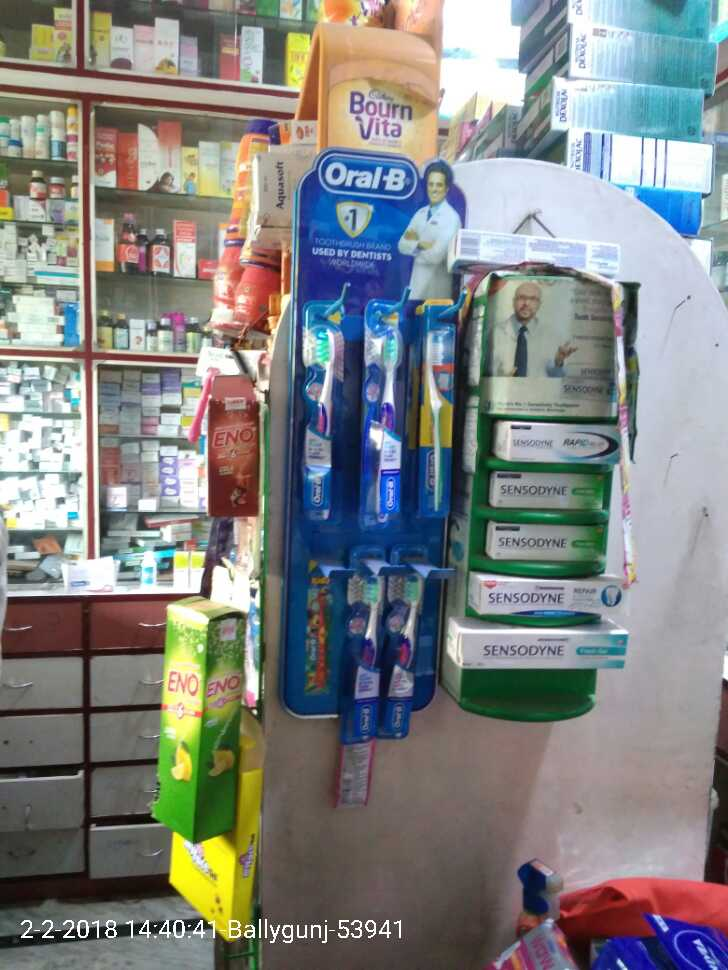oralb: (381, 565, 428, 740), (303, 315, 338, 526), (372, 311, 400, 526), (342, 579, 375, 748), (421, 326, 450, 518)
